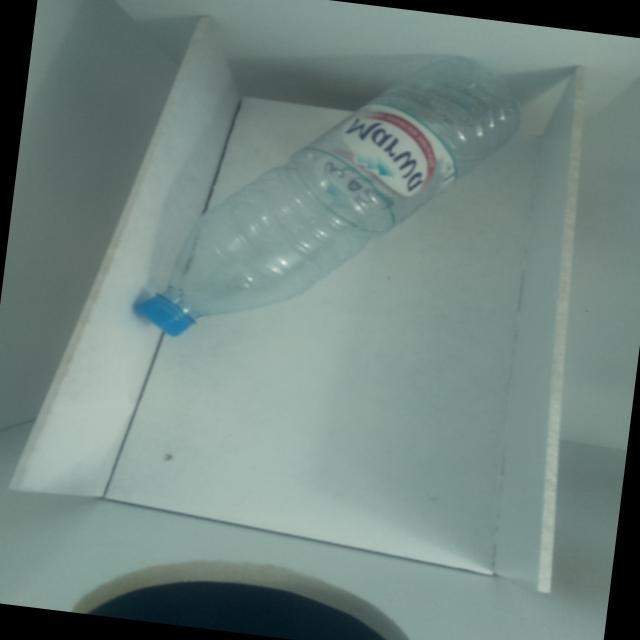good: (127, 11, 546, 384)
